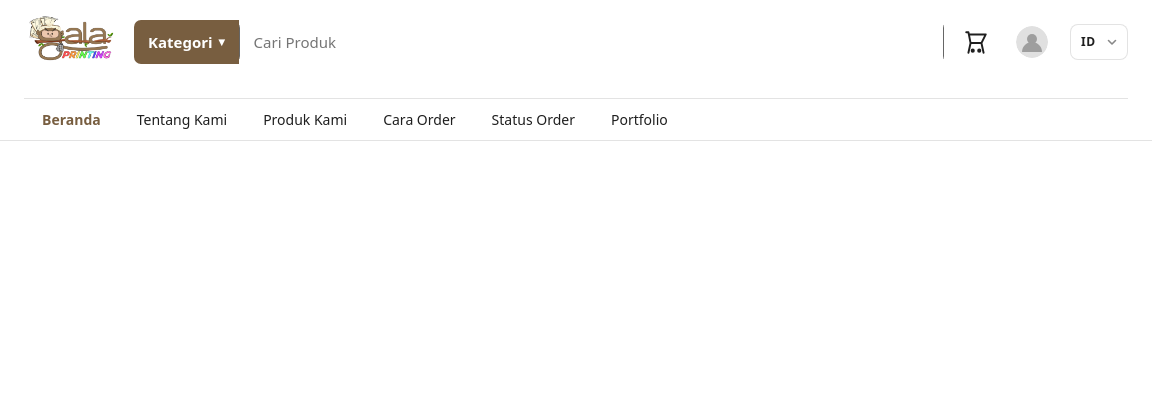
Test case: Property 9: Navbar links reflect user role › customer sees the customer nav with My Orders and Logout, no staff dashboard links
Step 1. Click the button named "Menu profil" → (1032, 42), box [1010,20,1054,64]
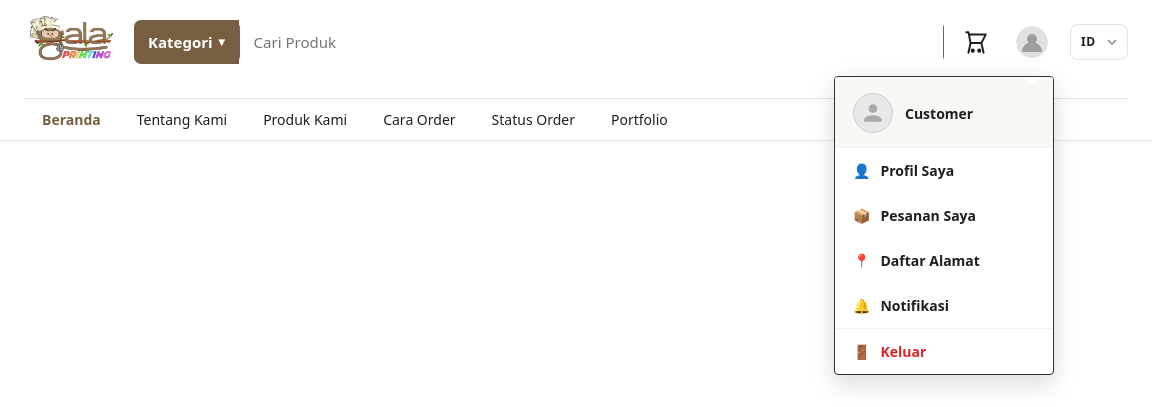
Now the element that starts with "Customer" is shown, box [834,76,1054,375]
Now the link "📦 Pesanan Saya" is shown, box [853,206,976,225]
Now the button "🚪 Keluar" is shown, box [835,329,1053,374]
